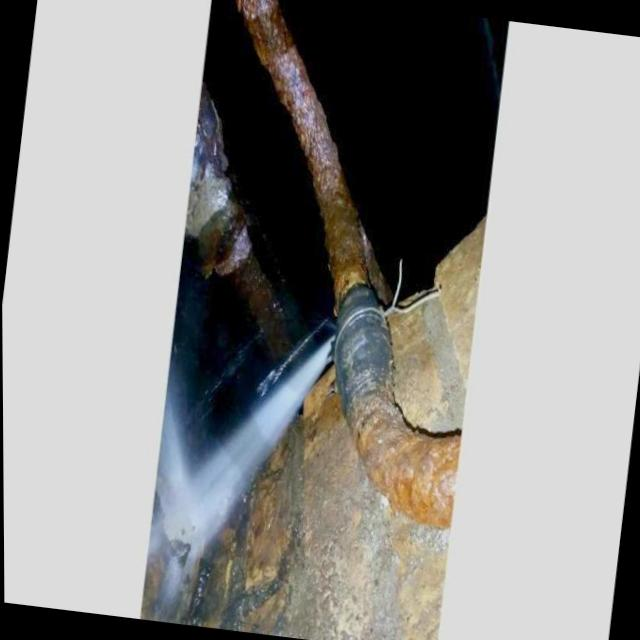leak: (157, 323, 332, 568)
